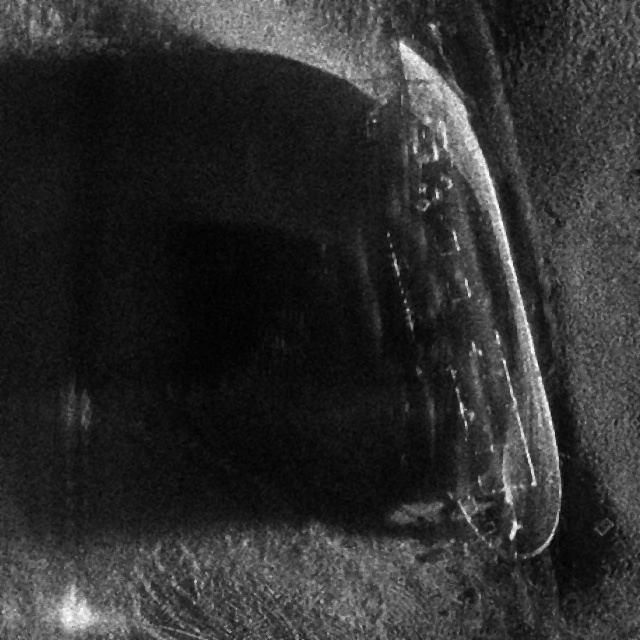Ship: (333, 22, 582, 571)
